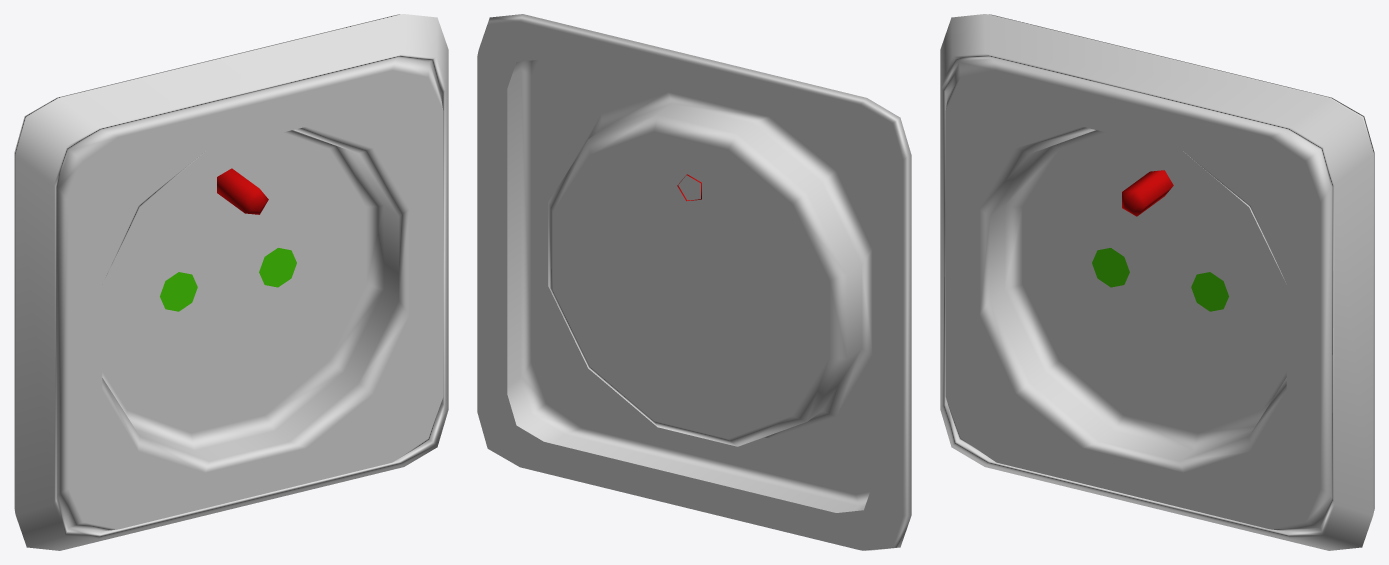
File: WallBenchPart04.fbx
The picture shows the model from 3 angles, left to right: view 1: azimuth 30°, elevation 25°; view 2: azimuth 150°, elevation 25°; view 3: azimuth 330°, elevation 25°; orthographic projection.
Visible parts, largest first — view 1: WallBenchPart04; view 2: WallBenchPart04; view 3: WallBenchPart04.
Boxes of the visible parts, box(x1,y1,x2,y2) form: WallBenchPart04: box(14, 14, 448, 550); WallBenchPart04: box(477, 14, 911, 550); WallBenchPart04: box(940, 14, 1374, 550).
Size of the model in its own units: 5.69 by 0.7067 by 5.69.
